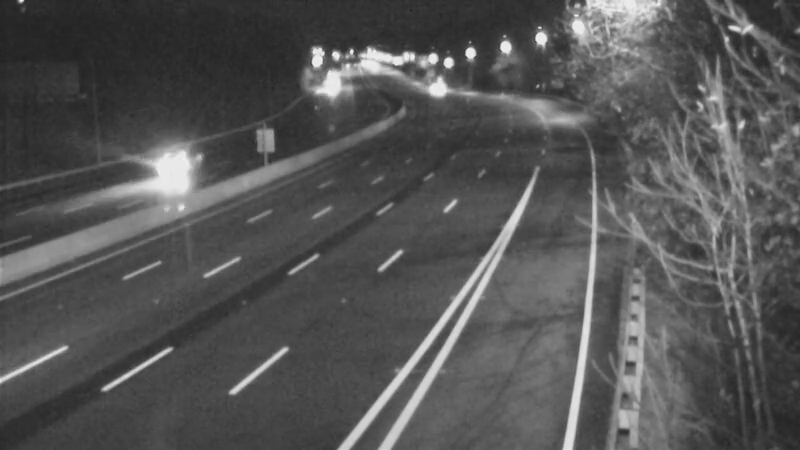vehicle: (139, 125, 219, 205), (406, 62, 456, 112), (309, 61, 359, 111)
